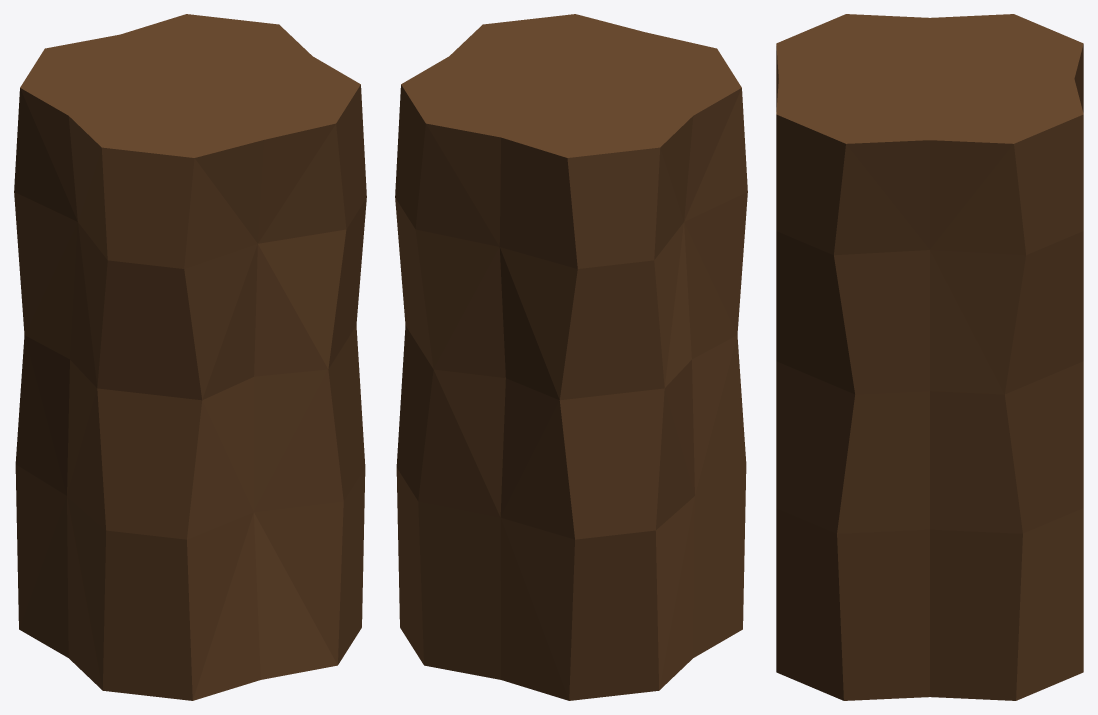
The model's file is Section_2.glb.
The picture shows the model from 3 angles, left to right: view 1: azimuth 30°, elevation 25°; view 2: azimuth 150°, elevation 25°; view 3: azimuth 270°, elevation 25°; orthographic projection. The views are drawn at different scales.
Parts seen in each view (by area): view 1: Section; view 2: Section; view 3: Section.
Boxes of the visible parts, x1,y1,x2,y2 form: Section: (14, 14, 366, 700); Section: (395, 14, 747, 700); Section: (776, 14, 1083, 700).
Bounding box in the file's own units: 2.4 × 4.8 × 2.4.
